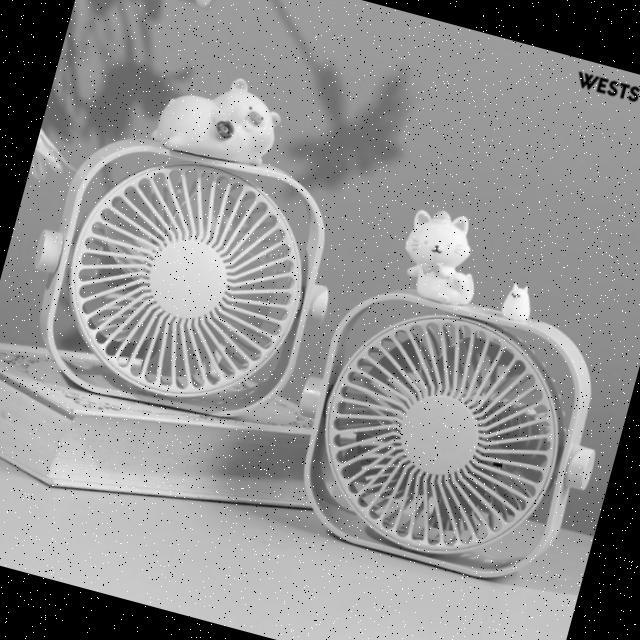fan: (9, 109, 362, 436), (283, 268, 633, 594)
